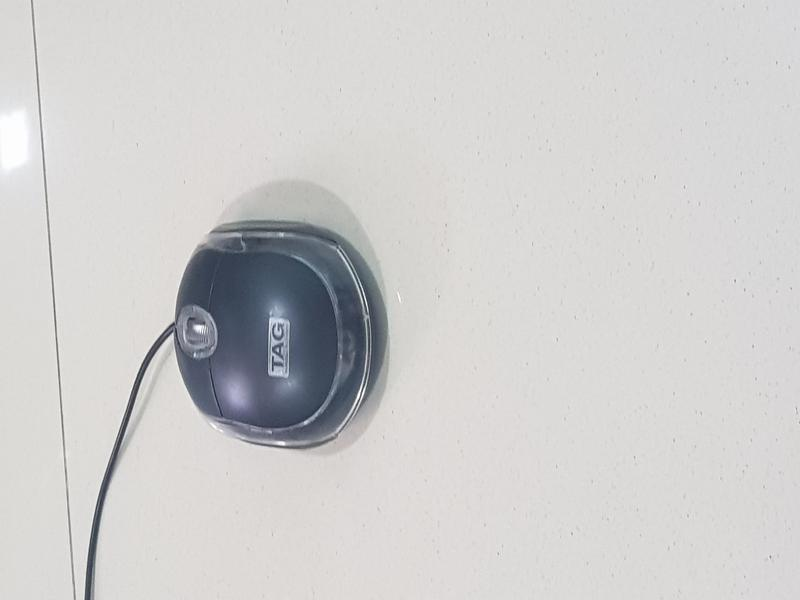mouse: (135, 201, 414, 458)
